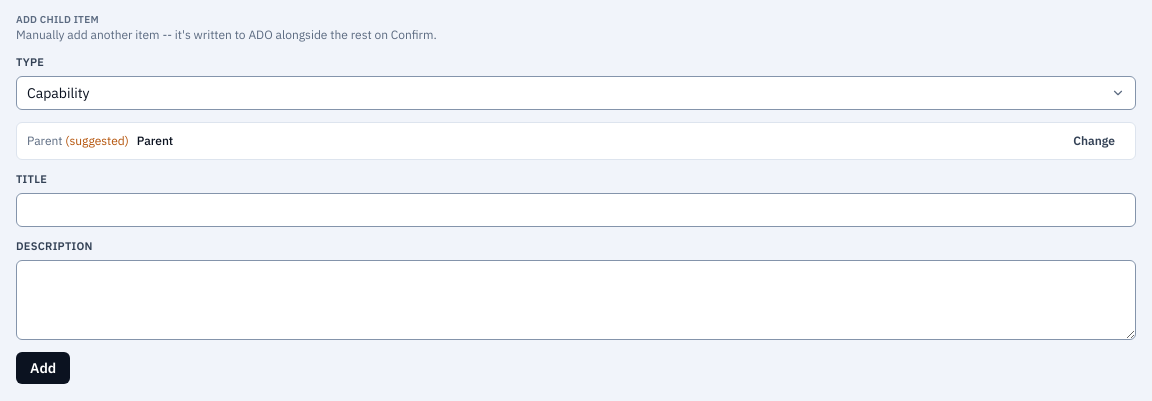
Scenario: AddChildForm › renders real per-project type labels (categoryLabels) in the type Select
The width and height of the screenshot is (1152, 401).
Click the dropdown named "type": (58, 93) [16,76,1136,110]
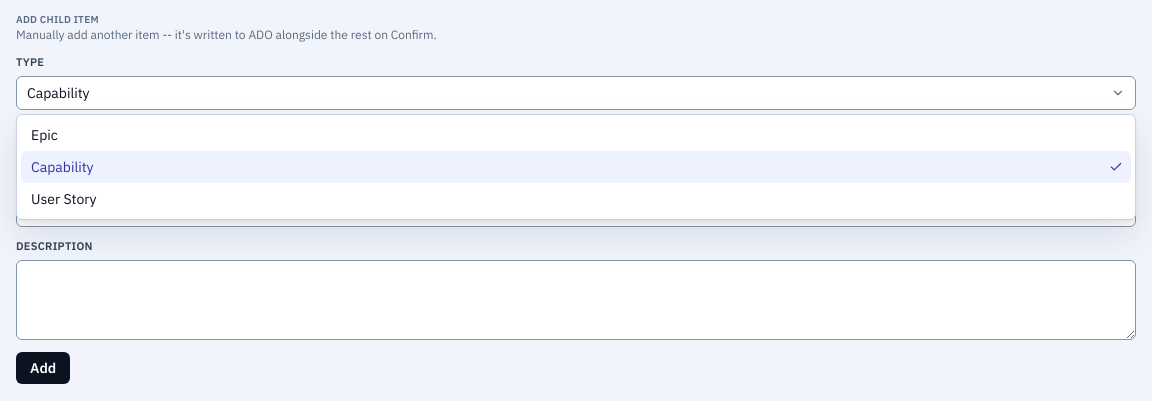
expect the option "User Story" is shown: met, box [31,190,96,208]
